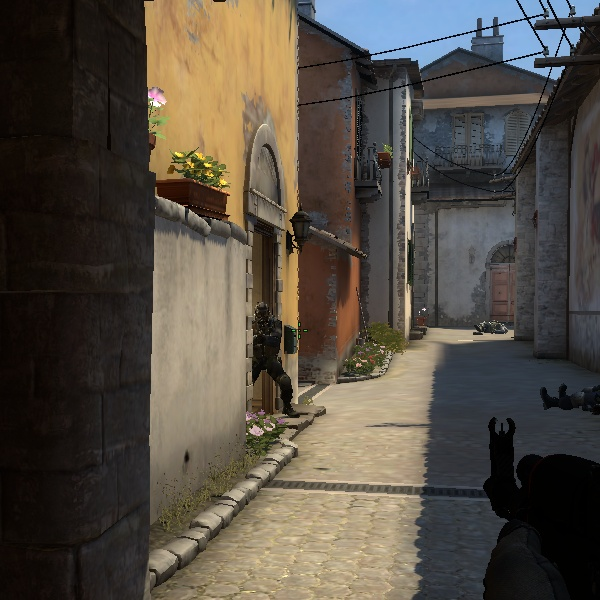ct_body: (233, 296, 302, 427)
